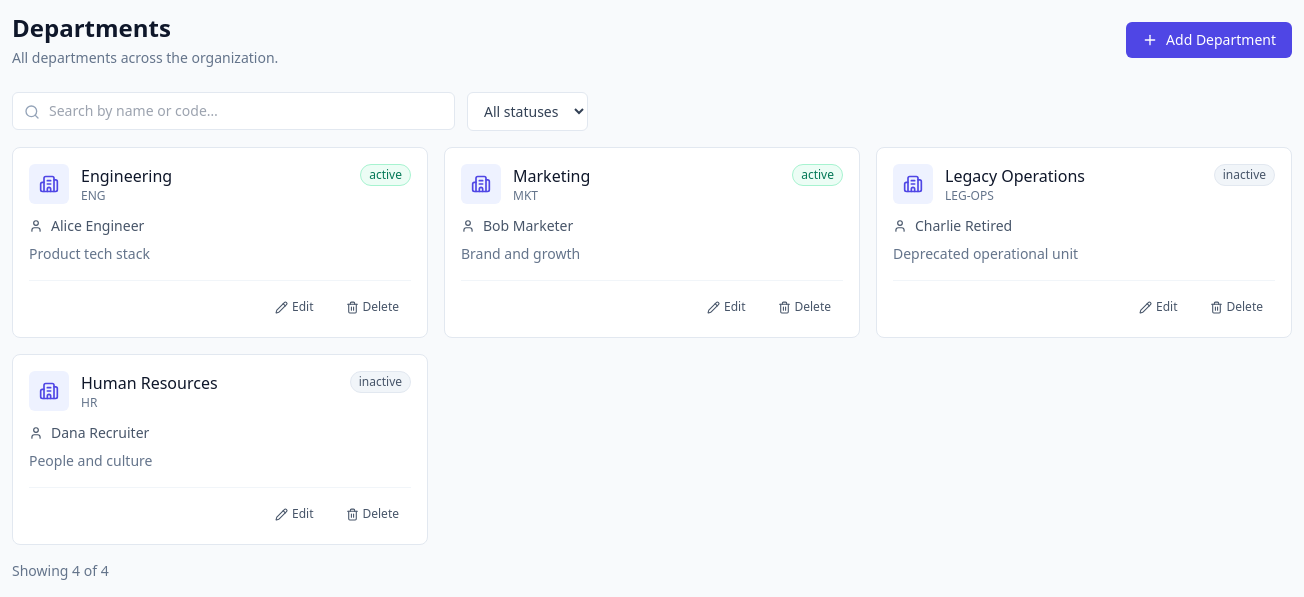
Test: DepartmentsPage - Filtering and Interaction › filters departments by search text (name or code)
Expected: the text "Engineering" is shown, [81,164,172,188]
# Search by name
Type "market" into the field with placeholder "Search by name or code…" at coordinates (234, 111), box [12,92,455,130]
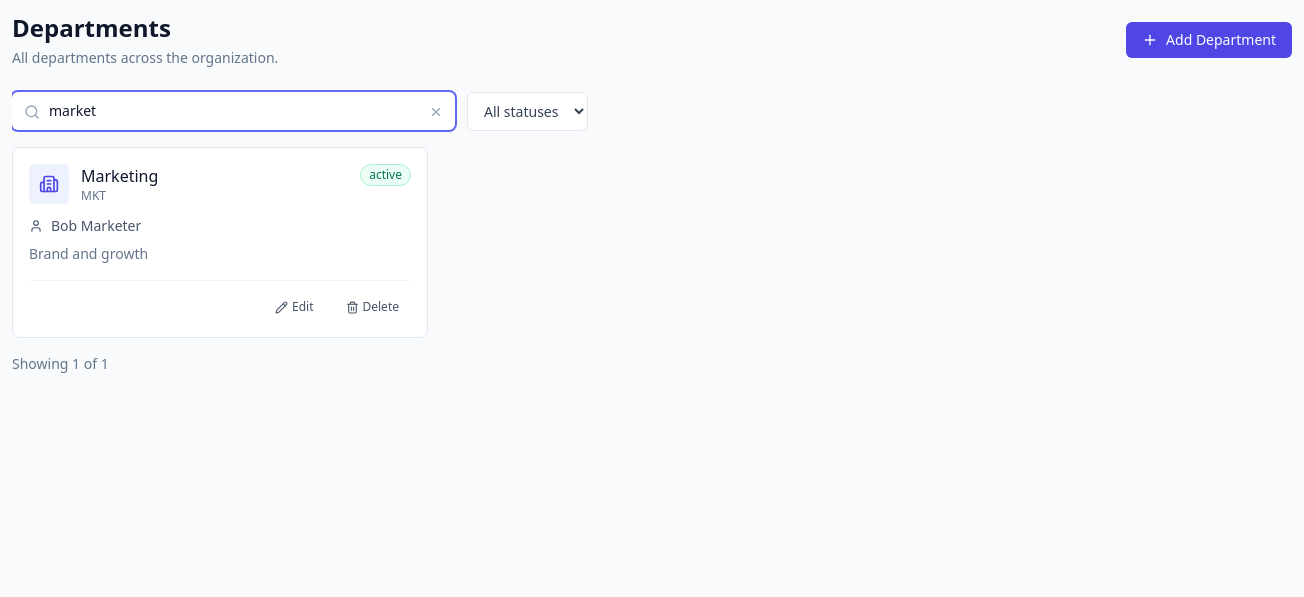
Expected: the text "Marketing" is shown, [81,164,158,188]
Expected: the link "Engineering" is gone
Expected: the link "Legacy Operations" is gone
# Clear search using clear button
Click the button named "clear search" at coordinates (436, 112), box [425,100,447,122]
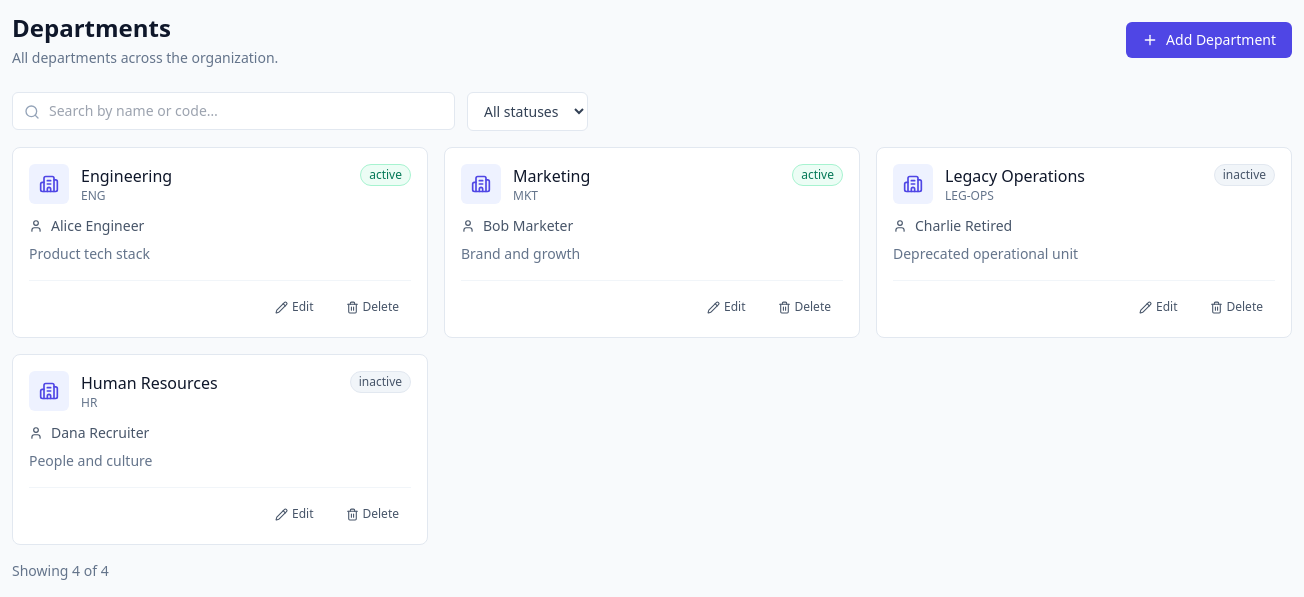
Expected: the text "Marketing" is shown, [513,164,590,188]
Expected: the field with placeholder "Search by name or code…" is empty
Expected: the text "Engineering" is shown, [81,164,172,188]
# Search by code
Type "ENG" into the field with placeholder "Search by name or code…" at coordinates (234, 111), box [12,92,455,130]
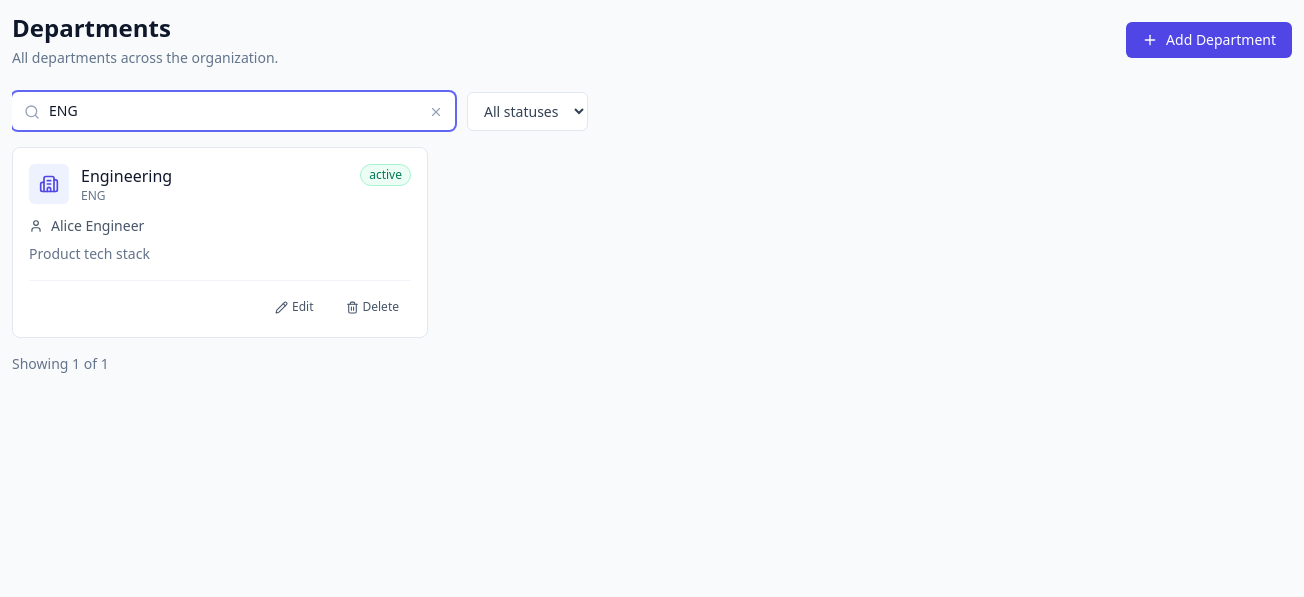
Expected: the text "Engineering" is shown, [81,164,172,188]
Expected: the link "Marketing" is gone
